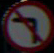Don't turn left: (5, 7, 46, 46)
